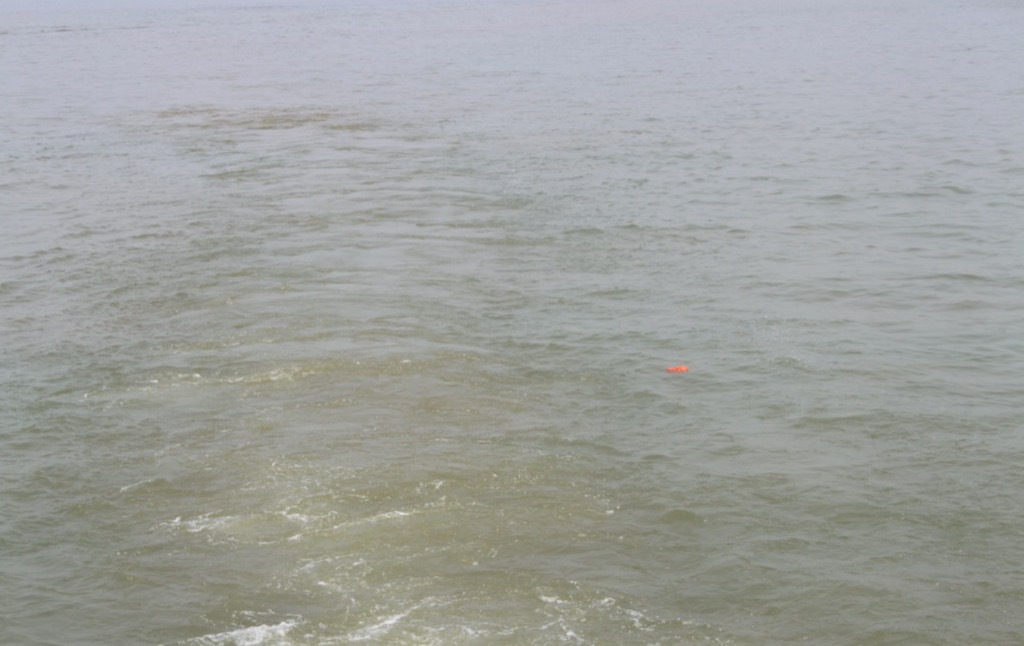plastic: (664, 360, 696, 388)
